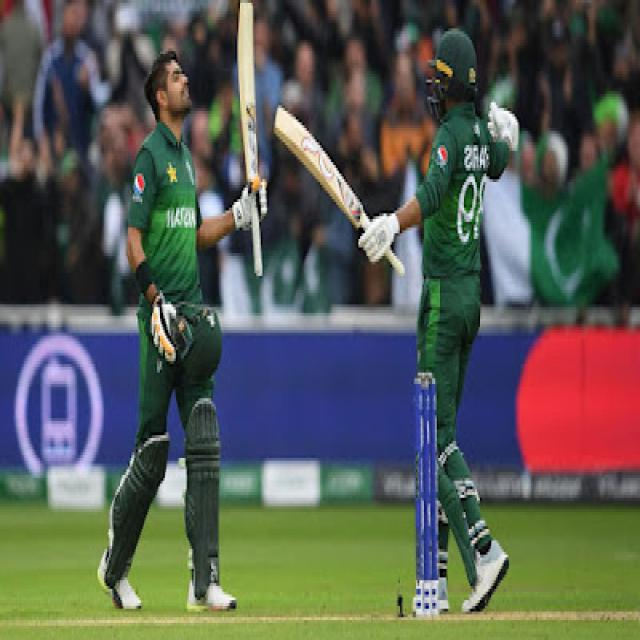stump: (415, 372, 440, 615)
